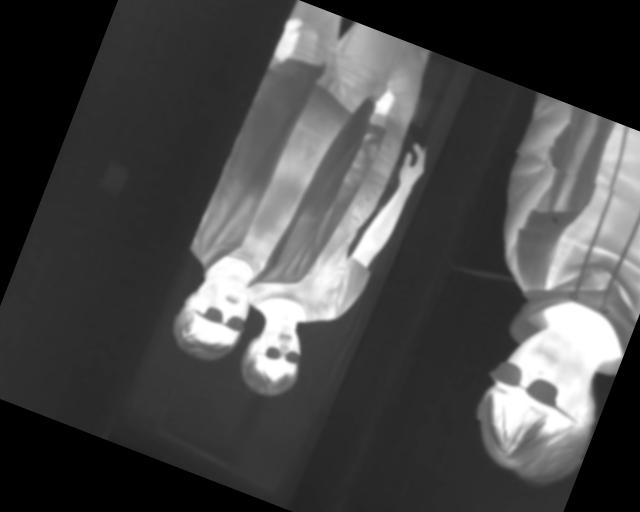face: (460, 314, 622, 499), (165, 263, 259, 371), (232, 311, 314, 405)
